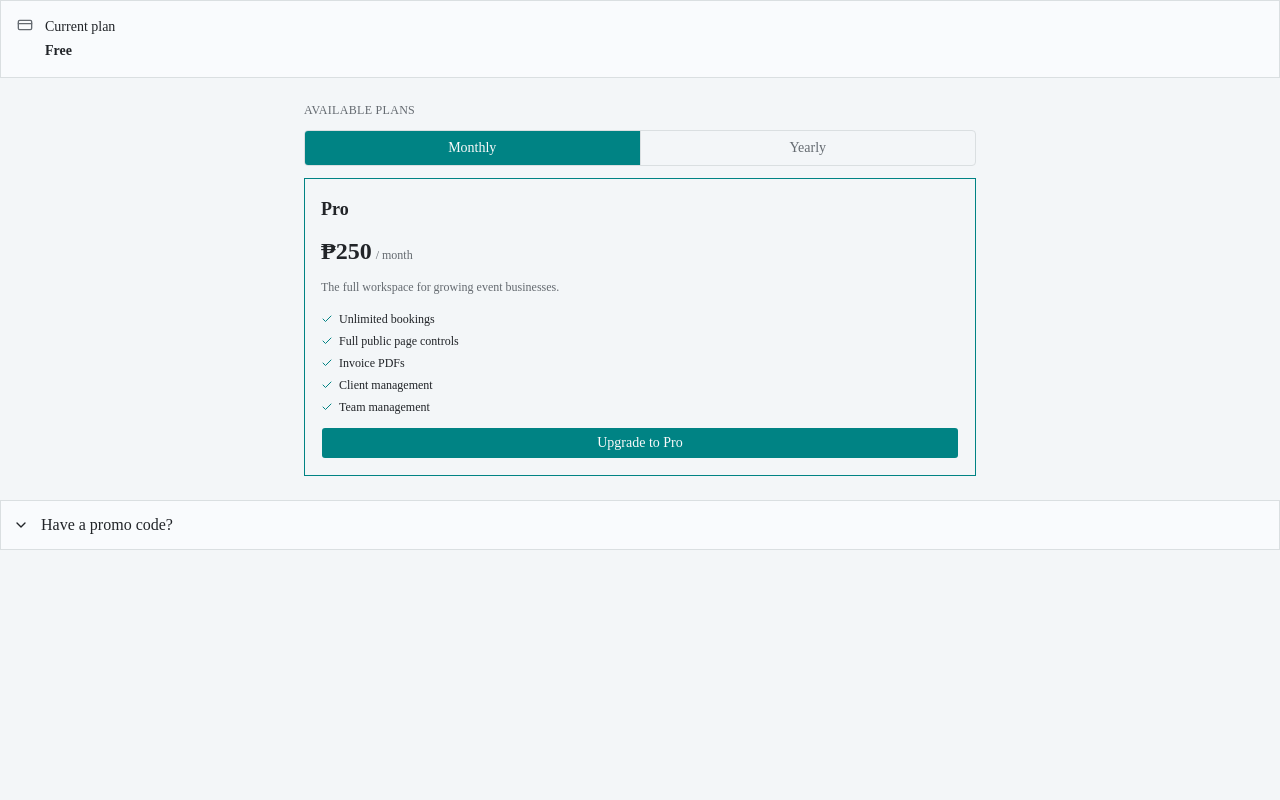
Test: BillingPanel — promo code redemption › expands the promo code form when clicked
What coordinates should you click on to do the following:
click the button "Have a promo code?"
I would click on:
 (93, 524)
Its box is [13,516,173,533].
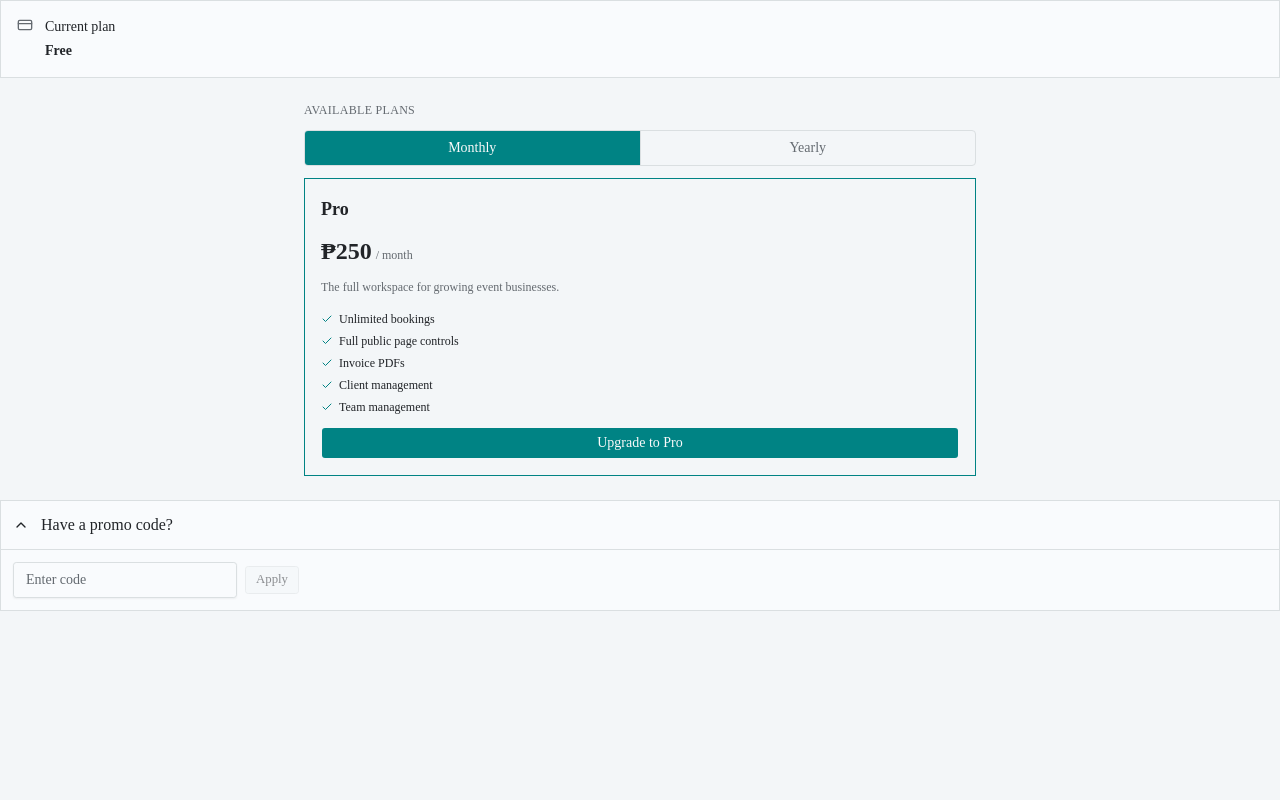
Expected: the field with placeholder "Enter code" is shown, [13,562,237,598]
